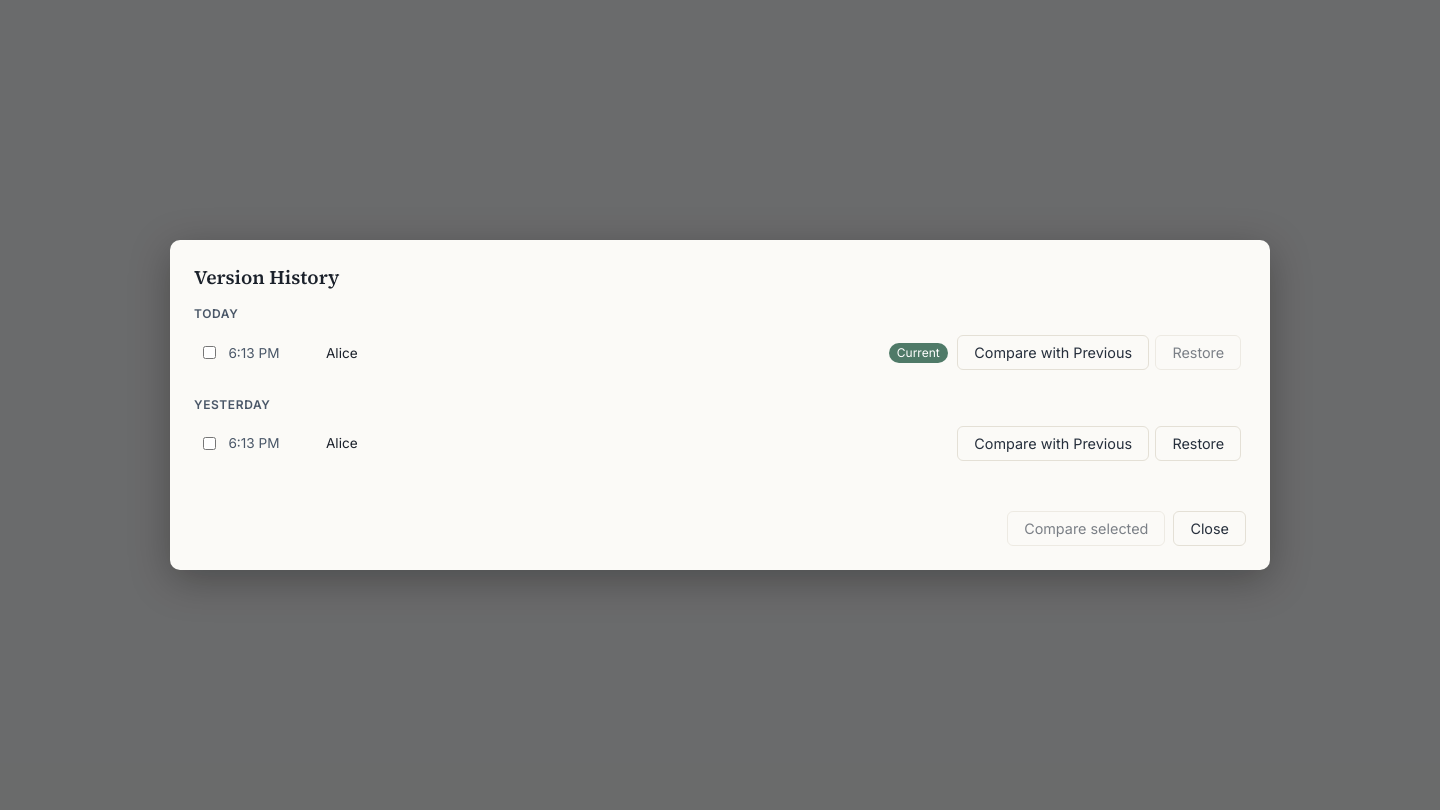
Test: VersionHistoryPanel › View opens a diff comparing the version against its predecessor
Click the button "Compare with Previous" next to "Current": {"x": 1053, "y": 353} top-left (957, 335), bottom-right (1149, 370)
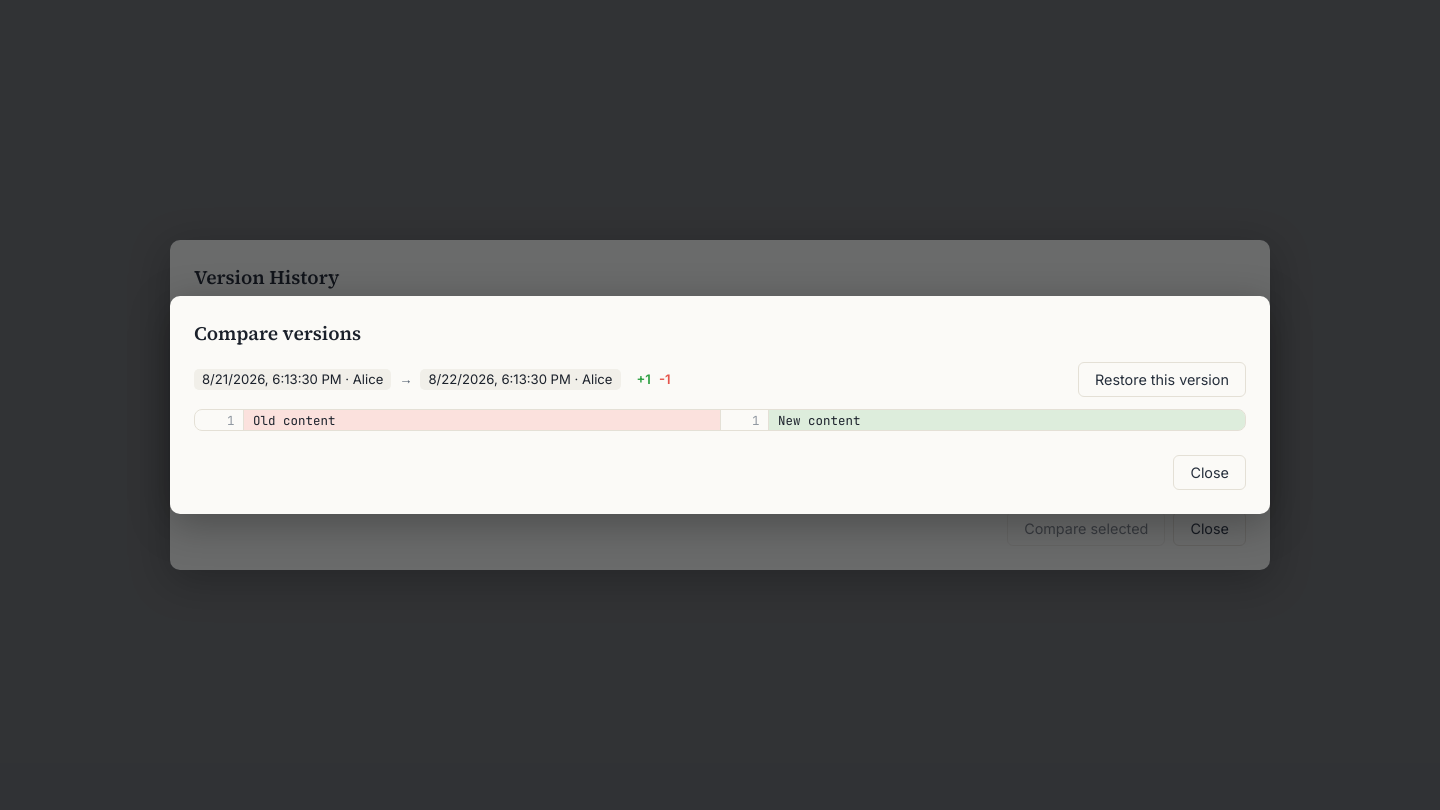
Result: the text "Old content" is shown at top-left (243, 410), bottom-right (720, 430)
Result: the text "New content" is shown at top-left (768, 410), bottom-right (1245, 430)
